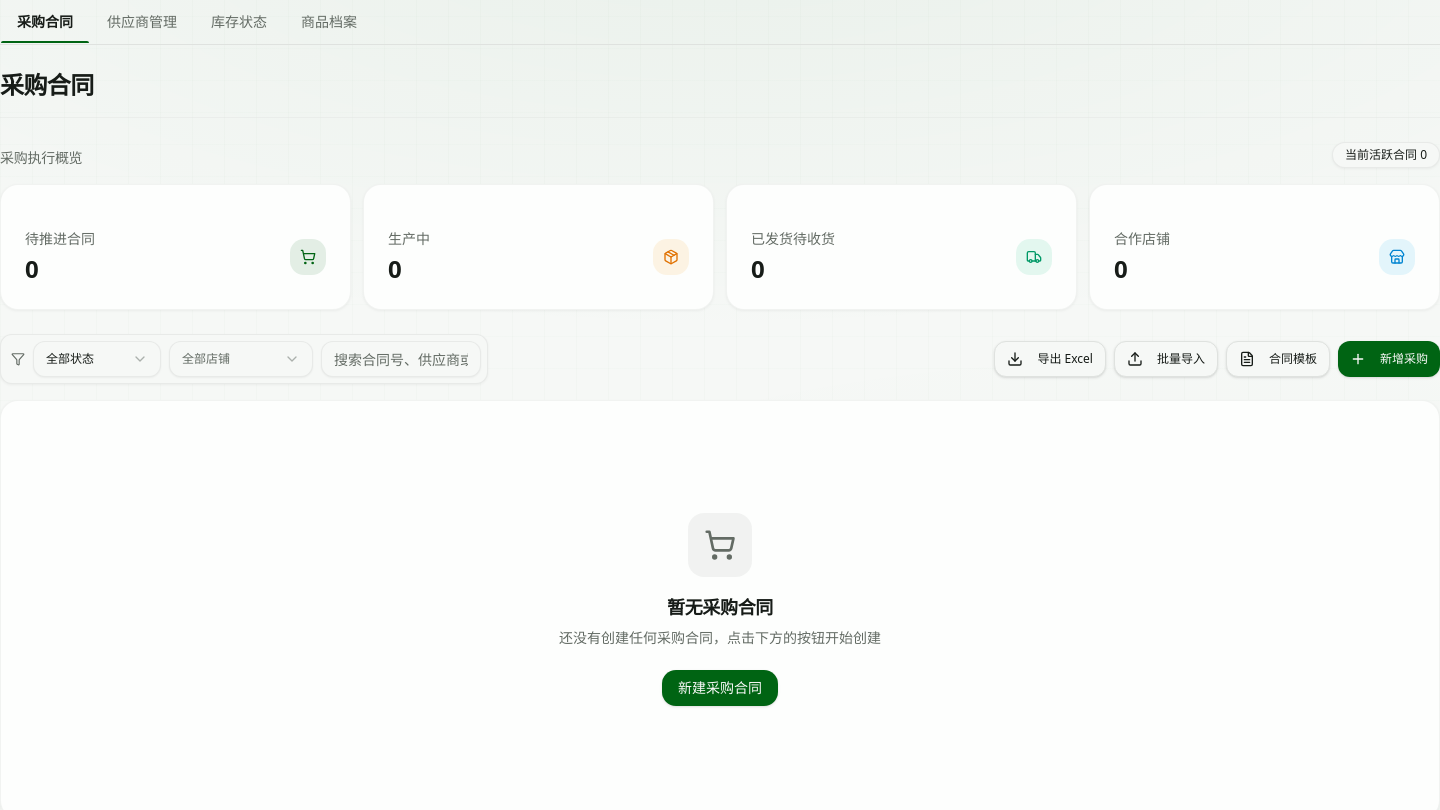
ContractsPage 交互逻辑 › 合同模板在采购合同页内弹窗管理
The width and height of the screenshot is (1440, 810).
Step 1. Click the button "合同模板" → (1278, 359), box [1226,341,1330,377]
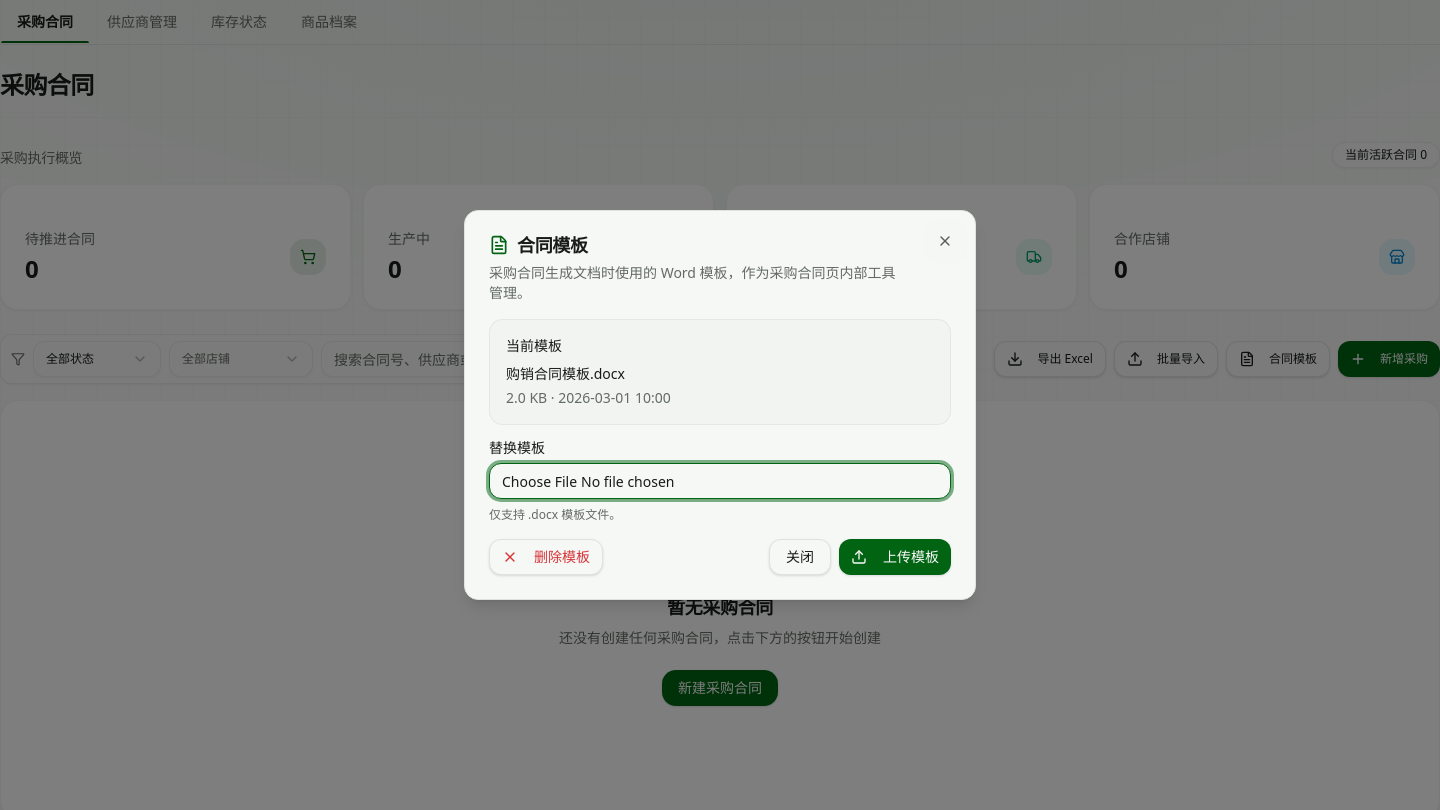
Expected: the dialog is shown, [464,210,976,600]
Expected: the text "购销合同模板.docx" is shown, [506,364,625,383]
